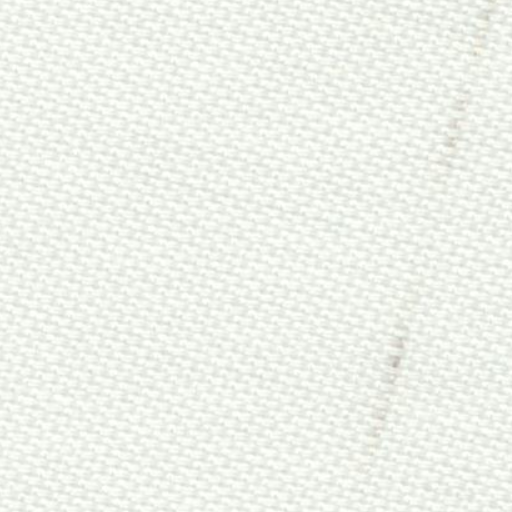WuZi: (348, 6, 488, 467)
